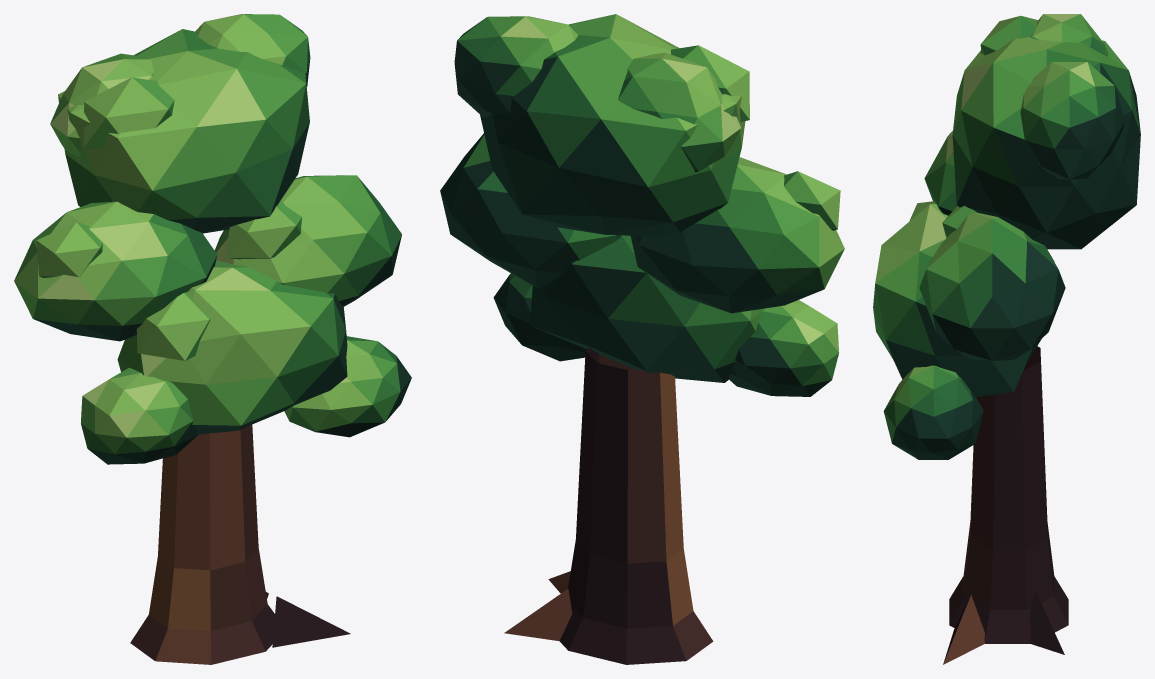
File: tree_tree1.glb
The picture shows the model from 3 angles, left to right: view 1: azimuth 30°, elevation 25°; view 2: azimuth 150°, elevation 25°; view 3: azimuth 270°, elevation 25°; orthographic projection. The views are drawn at different scales.
Parts seen in each view (by area): view 1: tree1; view 2: tree1; view 3: tree1.
Boxes of the visible parts, x1,y1,x2,y2 form: tree1: [14, 14, 411, 664]; tree1: [440, 14, 844, 664]; tree1: [873, 14, 1140, 664].
Bounding box in the file's own units: 0.9829 × 1.52 × 0.6432.
